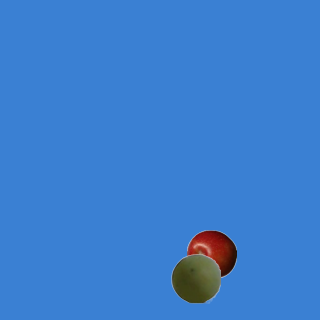Apple Braeburn: (186, 229, 236, 279)
Grape White 4: (170, 253, 220, 303)
